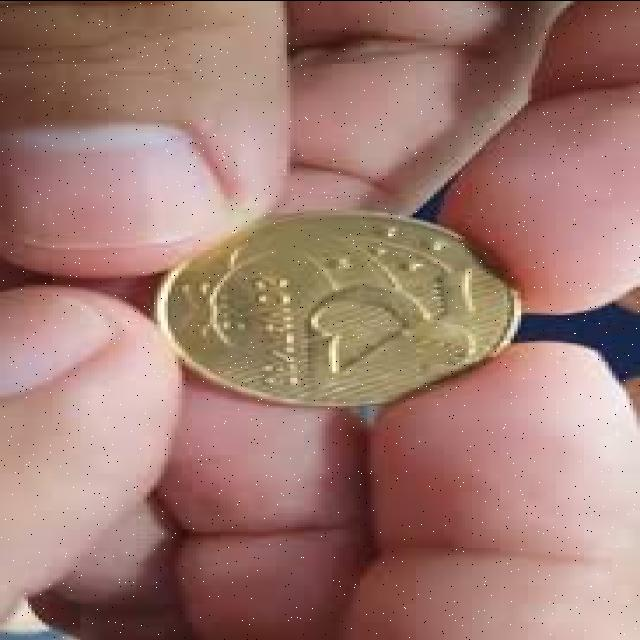25 cent: (170, 225, 522, 404)
